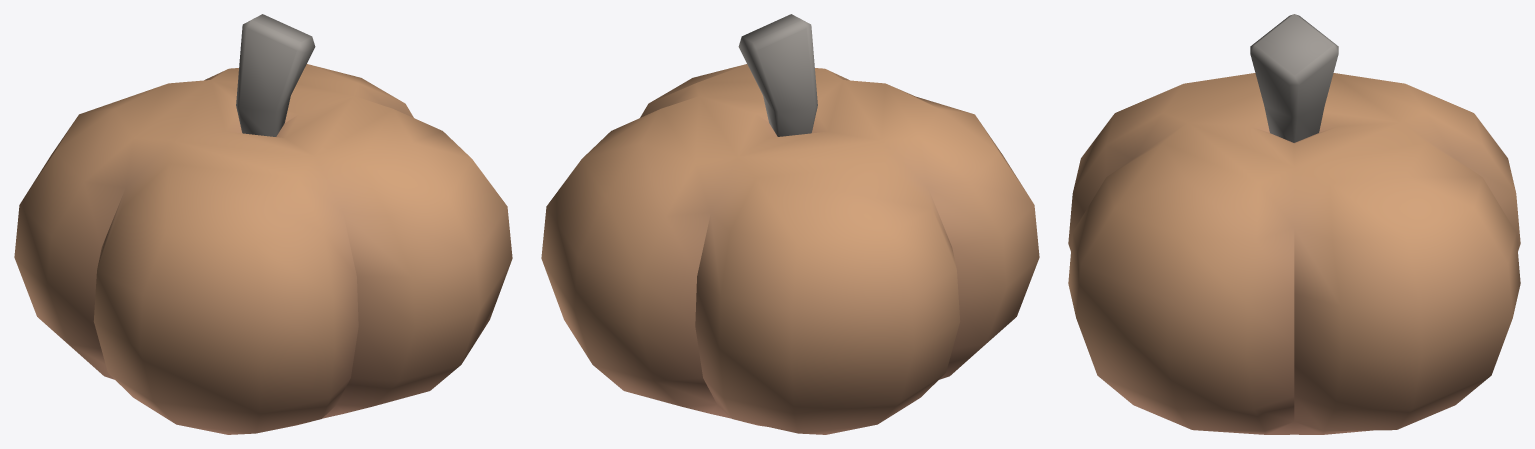
The model's file is pumpkin_small.gltf.
3 views of the same model, side by side, from view 1: azimuth 30°, elevation 25°; view 2: azimuth 150°, elevation 25°; view 3: azimuth 270°, elevation 25° (orthographic).
Visible parts, largest first — view 1: pumpkin_small; view 2: pumpkin_small; view 3: pumpkin_small.
Part boxes in pixels (x1,y1,x2,y2): pumpkin_small: (14,14,512,434); pumpkin_small: (541,14,1039,434); pumpkin_small: (1068,14,1520,434).
Size of the model in its own units: 0.6 by 0.55 by 0.6.
